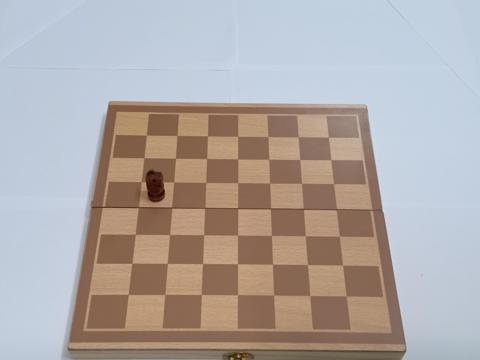xcorner: (340, 262, 350, 272), (307, 293, 317, 303), (296, 155, 306, 165), (294, 132, 304, 142), (267, 205, 277, 215), (233, 154, 243, 164), (233, 131, 243, 141), (197, 292, 207, 302), (198, 261, 208, 271), (200, 204, 210, 214), (201, 178, 211, 188), (170, 153, 180, 163), (344, 293, 353, 303), (337, 233, 346, 243), (331, 180, 340, 190), (305, 262, 314, 272), (300, 206, 310, 215), (298, 180, 308, 189), (269, 262, 279, 271), (268, 233, 278, 242), (266, 179, 275, 189), (234, 293, 244, 302), (234, 261, 243, 271), (234, 232, 243, 242), (199, 232, 209, 241), (160, 292, 170, 301), (165, 231, 174, 241), (168, 178, 178, 187), (172, 130, 181, 140), (123, 292, 133, 301), (127, 260, 136, 270), (133, 203, 142, 213), (136, 177, 145, 187), (138, 153, 148, 162), (334, 206, 343, 215), (328, 156, 337, 165), (325, 133, 334, 142), (303, 233, 312, 242), (271, 293, 280, 302), (265, 155, 274, 164), (264, 132, 273, 141), (234, 205, 243, 214), (234, 179, 243, 188), (202, 154, 211, 163), (203, 131, 212, 140), (163, 261, 172, 270), (167, 204, 176, 213), (130, 231, 139, 240), (141, 130, 150, 139)
